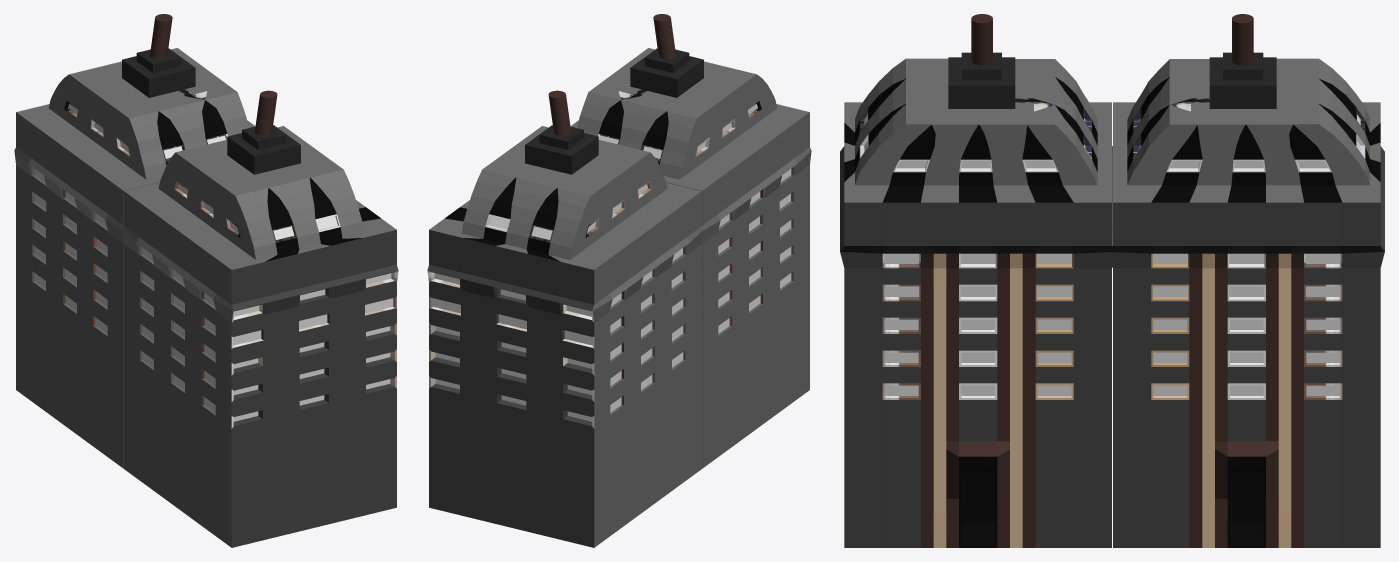
Rendered from portcullis.fbx.
The picture shows the model from 3 angles, left to right: view 1: azimuth 30°, elevation 25°; view 2: azimuth 150°, elevation 25°; view 3: azimuth 270°, elevation 25°; orthographic projection. The views are drawn at different scales.
Visible parts, largest first — view 1: Cube, Cube.001, Cylinder; view 2: Cube, Cube.001, Cylinder; view 3: Cube, Cube.001, Cylinder.
Boxes of the visible parts, x1,y1,x2,y2 form: Cube: (14,48,398,547); Cube.001: (122,48,300,174); Cylinder: (150,14,277,135); Cube: (427,48,811,547); Cube.001: (525,48,703,174); Cylinder: (548,14,675,135); Cube: (840,58,1384,547); Cube.001: (948,52,1276,108); Cylinder: (971,14,1253,65).
Size of the model in its own units: 773 by 1598 by 1626.
